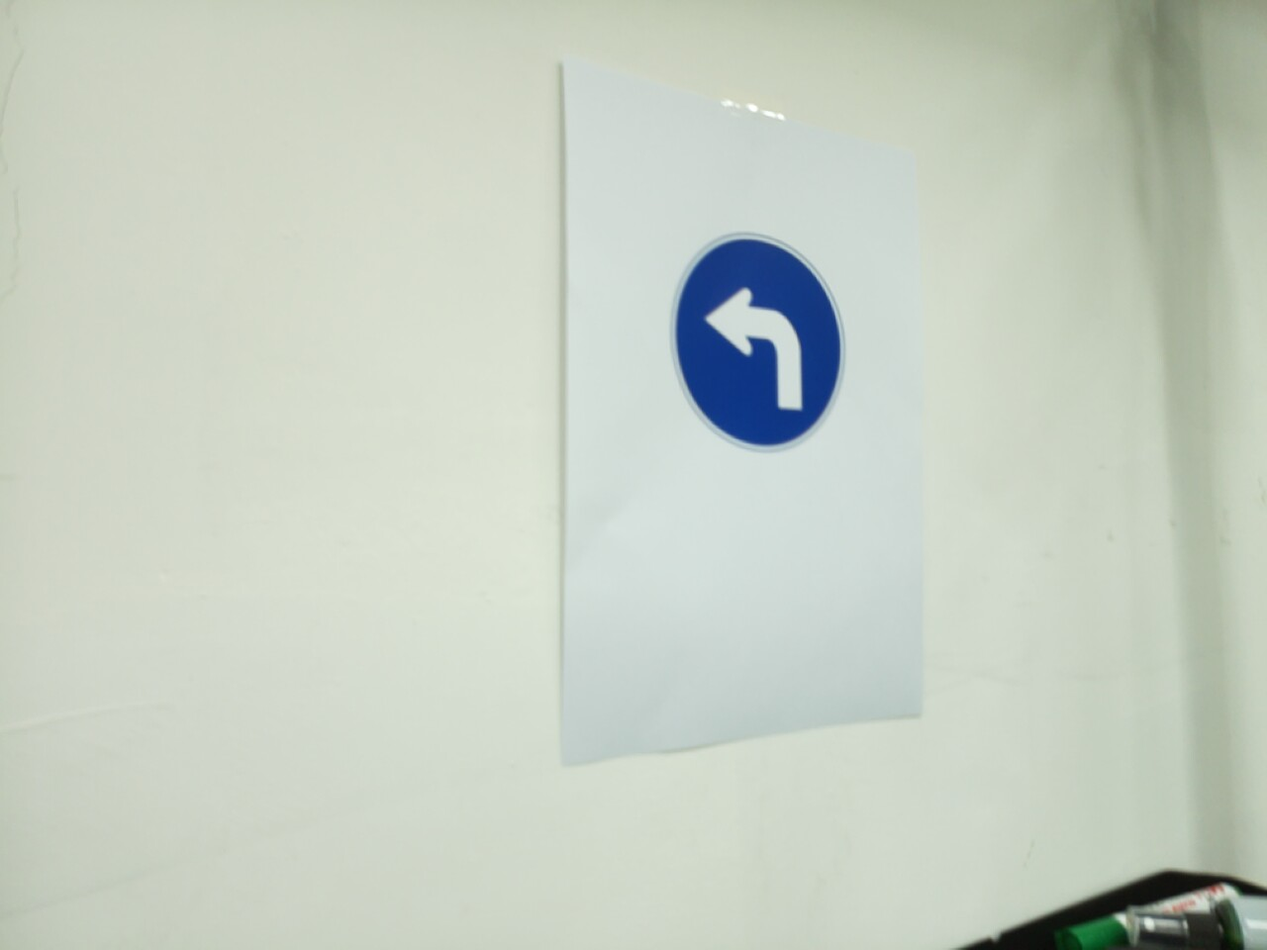left_turn: (668, 231, 847, 454)
